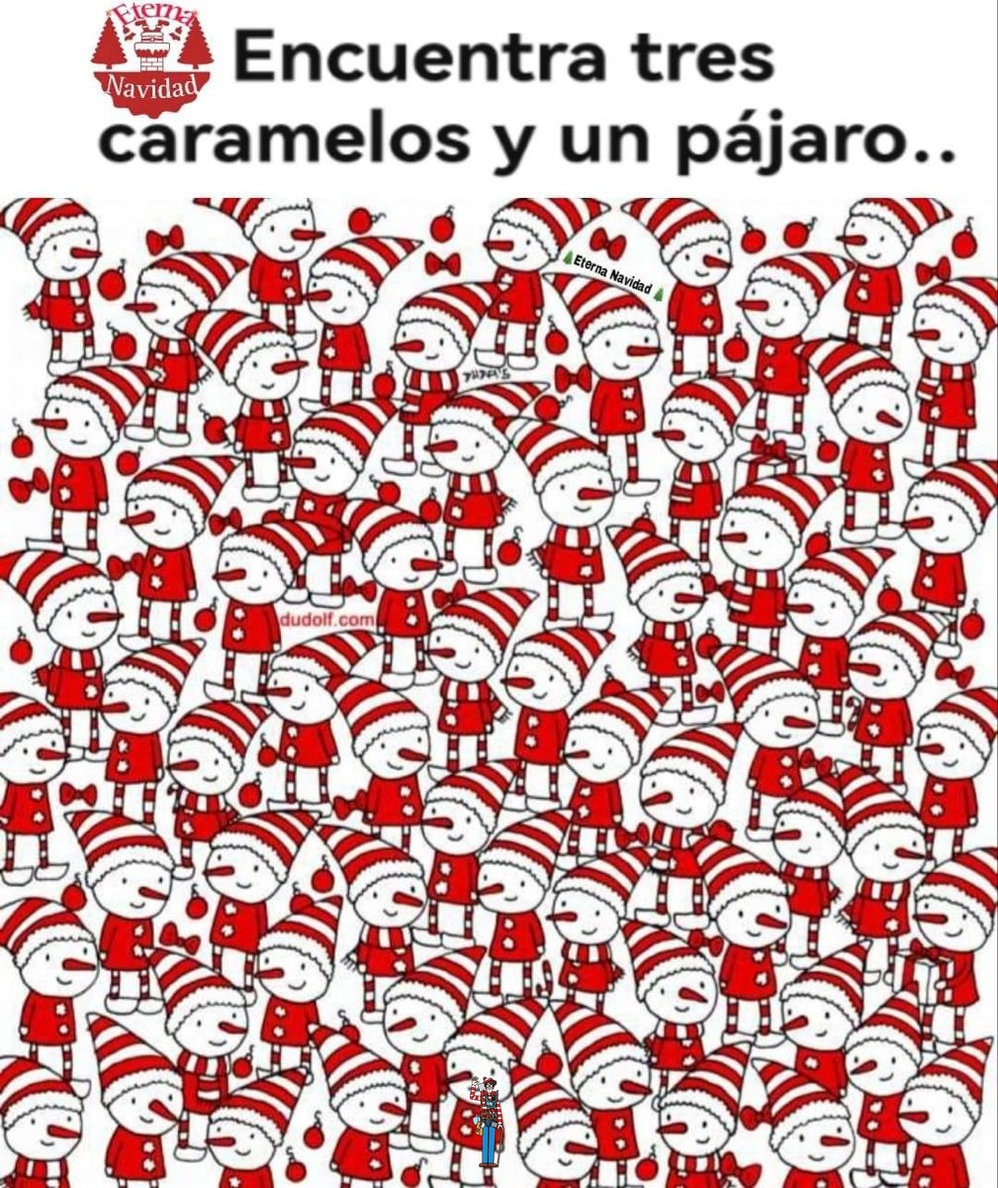waldo: (470, 1076, 504, 1168)
